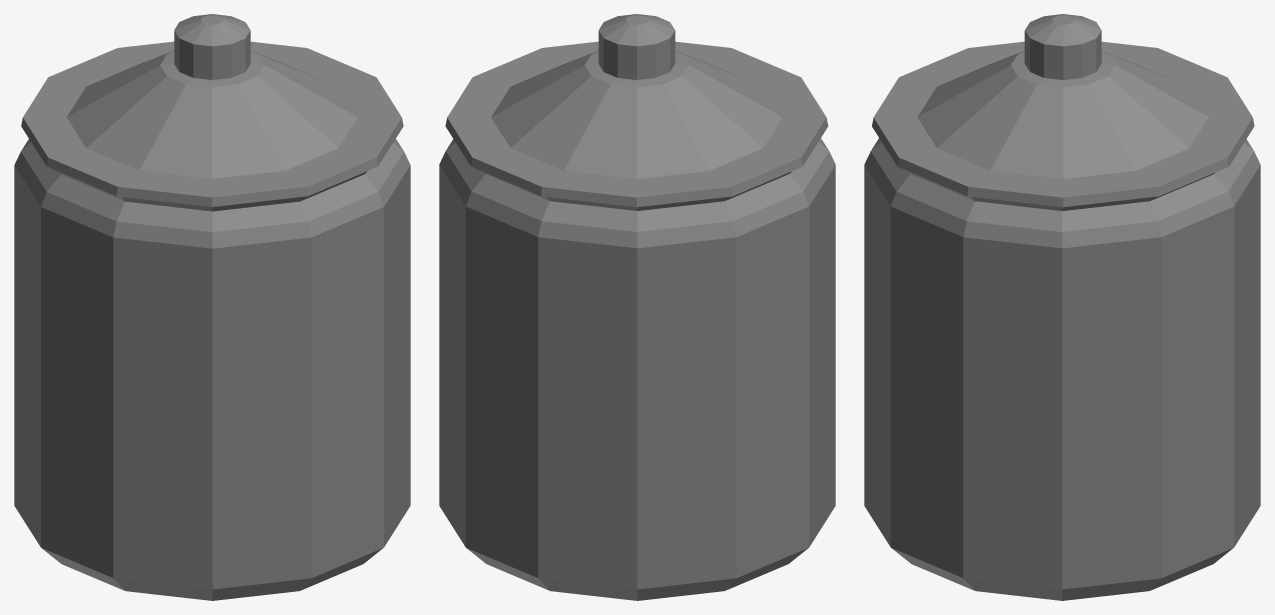
The model's file is Jar.fbx.
3 renders of one model, left to right at view 1: azimuth 30°, elevation 25°; view 2: azimuth 150°, elevation 25°; view 3: azimuth 270°, elevation 25°, orthographic.
Parts seen in each view (by area): view 1: Jar; view 2: Jar; view 3: Jar.
Part boxes in pixels (box(x1,y1,x2,y2)): Jar: box(14, 14, 410, 600); Jar: box(439, 14, 835, 600); Jar: box(864, 14, 1260, 600).
Bounding box in the file's own units: 16.93 × 23.91 × 16.93.
